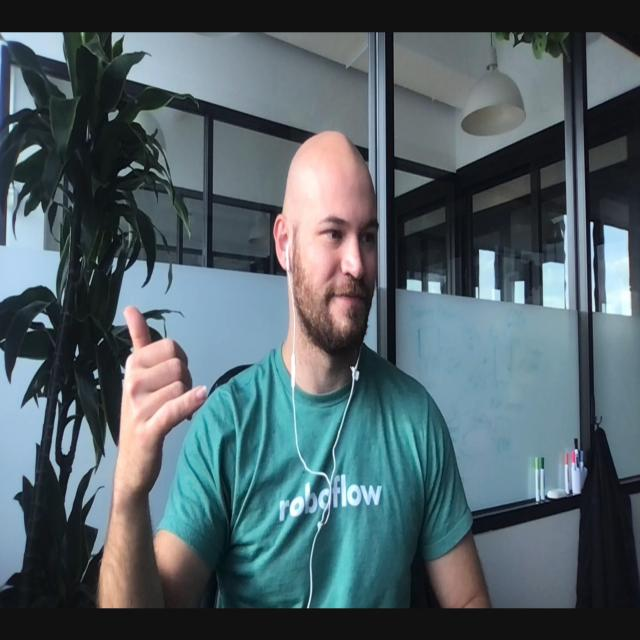face: (291, 162, 379, 354)
